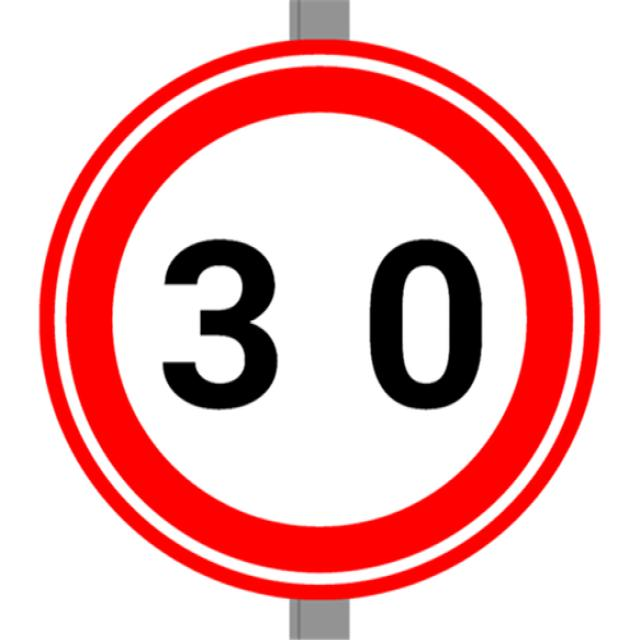speed limit 30: (41, 40, 602, 607)
